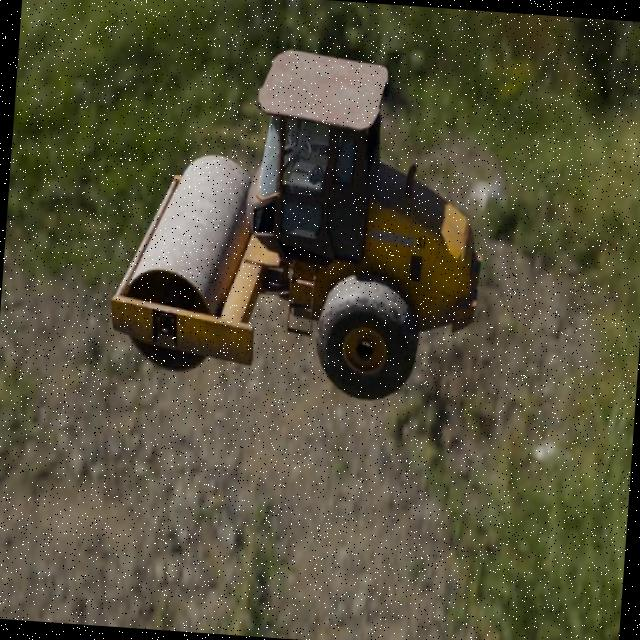Roller: (104, 38, 496, 408)
